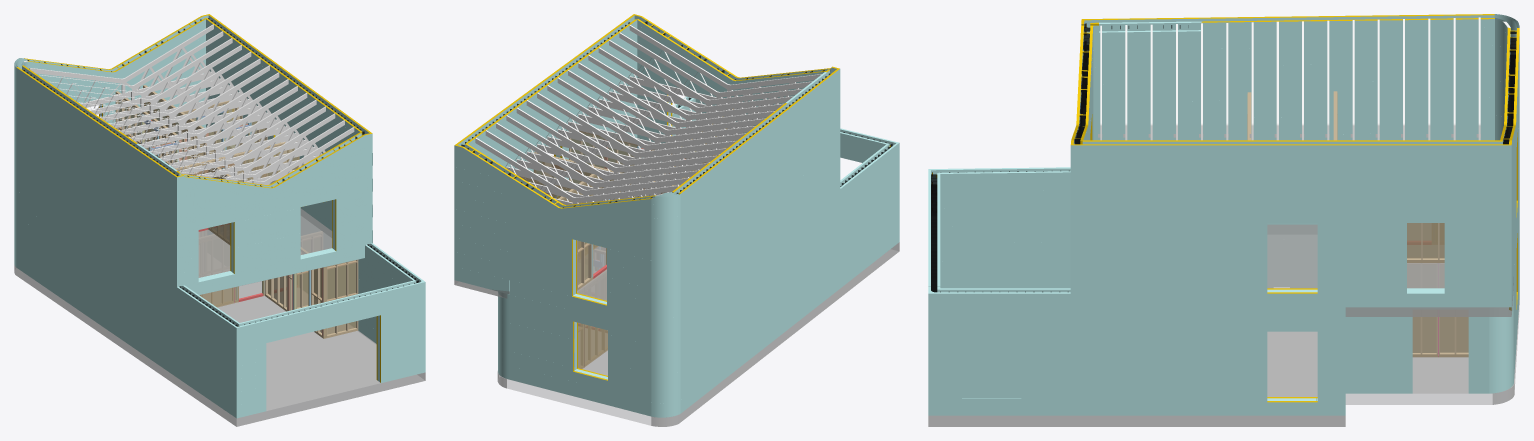
The model's file is Fell_Partnership_-_Somerset_Terrace_new.glb.
3 views of the same model, side by side, from view 1: azimuth 30°, elevation 25°; view 2: azimuth 150°, elevation 25°; view 3: azimuth 270°, elevation 25° (orthographic). The views are drawn at different scales.
Parts seen in each view (by area): view 1: Geom3D (×112), Geom3D_Group#_ts_271.325_-3.896_-87.609_-1.0_0.0_0.0__TLSID4, Geom3D_Group#_ts_271.325_-3.896_54.123_-1.0_0.0_0.0__TLSID44, Geom3D_Group#_ts_271.325_-3.896_-63.987_-1.0_0.0_0.0__TLSID4, Geom3D_Group#_ts_271.325_-3.896_-16.743_-1.0_0.0_0.0__TLSID4, Geom3D_Group#_ts_271.325_-3.896_-40.365_-1.0_0.0_0.0__TLSID4, Geom3D_Group#_ts_271.325_-3.896_30.501_-1.0_0.0_0.0__TLSID44, Geom3D_Group#_ts_271.325_-3.896_77.746_-1.0_0.0_0.0__TLSID44, Geom3D_Group#_ts_271.325_-3.896_124.99_-1.0_0.0_0.0__TLSID44, Geom3D_Group#_ts_271.325_-3.896_6.879_-1.0_0.0_0.0__TLSID447, Geom3D_Group#_ts_271.325_-3.896_101.368_-1.0_0.0_0.0__TLSID4, Geom3D_Group#_ts_271.325_-3.896_148.612_-1.0_0.0_0.0__TLSID4 (+5 smaller); view 2: Geom3D (×127), Geom3D_Group#_ts_271.325_-3.896_30.501_-1.0_0.0_0.0__TLSID44, Geom3D_Group#_ts_271.325_-3.896_54.123_-1.0_0.0_0.0__TLSID44, Geom3D_Group#_ts_271.325_-3.896_77.746_-1.0_0.0_0.0__TLSID44, Geom3D_Group#_ts_271.325_-3.896_6.879_-1.0_0.0_0.0__TLSID447, Geom3D_Group#_ts_271.325_-3.896_-16.743_-1.0_0.0_0.0__TLSID4, Geom3D_Group#_ts_271.325_-3.896_101.368_-1.0_0.0_0.0__TLSID4, Geom3D_Group#_ts_271.325_-3.896_148.612_-1.0_0.0_0.0__TLSID4, Geom3D_Group#_ts_271.325_-3.896_124.99_-1.0_0.0_0.0__TLSID44, Geom3D_Group#_ts_271.325_-3.896_172.234_-1.0_0.0_0.0__TLSID4, Geom3D_Group#_ts_271.325_-3.896_219.478_-1.0_0.0_0.0__TLSID4, Geom3D_Group#_ts_271.325_-3.896_195.856_-1.0_0.0_0.0__TLSID4 (+6 smaller); view 3: Geom3D (×129), 3DGeom-7600, 3DGeom-7599.
Part boxes in pixels (x1,y1,x2,y2): Geom3D (×112): (14, 25, 425, 426); Geom3D_Group#_ts_271.325_-3.896_-87.609_-1.0_0.0_0.0__TLSID4: (29, 24, 213, 107); Geom3D_Group#_ts_271.325_-3.896_54.123_-1.0_0.0_0.0__TLSID44: (89, 65, 269, 148); Geom3D_Group#_ts_271.325_-3.896_-63.987_-1.0_0.0_0.0__TLSID4: (39, 31, 223, 114); Geom3D_Group#_ts_271.325_-3.896_-16.743_-1.0_0.0_0.0__TLSID4: (59, 45, 241, 128); Geom3D_Group#_ts_271.325_-3.896_-40.365_-1.0_0.0_0.0__TLSID4: (49, 38, 232, 121); Geom3D_Group#_ts_271.325_-3.896_30.501_-1.0_0.0_0.0__TLSID44: (79, 58, 260, 141); Geom3D_Group#_ts_271.325_-3.896_77.746_-1.0_0.0_0.0__TLSID44: (98, 72, 279, 154); Geom3D_Group#_ts_271.325_-3.896_124.99_-1.0_0.0_0.0__TLSID44: (118, 86, 297, 168); Geom3D_Group#_ts_271.325_-3.896_6.879_-1.0_0.0_0.0__TLSID447: (69, 51, 251, 134); Geom3D_Group#_ts_271.325_-3.896_101.368_-1.0_0.0_0.0__TLSID4: (108, 79, 288, 161); Geom3D_Group#_ts_271.325_-3.896_148.612_-1.0_0.0_0.0__TLSID4: (129, 93, 307, 174); Geom3D (×127): (454, 27, 899, 426); Geom3D_Group#_ts_271.325_-3.896_30.501_-1.0_0.0_0.0__TLSID44: (526, 100, 726, 192); Geom3D_Group#_ts_271.325_-3.896_54.123_-1.0_0.0_0.0__TLSID44: (537, 92, 736, 185); Geom3D_Group#_ts_271.325_-3.896_77.746_-1.0_0.0_0.0__TLSID44: (547, 85, 745, 177); Geom3D_Group#_ts_271.325_-3.896_6.879_-1.0_0.0_0.0__TLSID447: (516, 107, 716, 195); Geom3D_Group#_ts_271.325_-3.896_-16.743_-1.0_0.0_0.0__TLSID4: (506, 115, 707, 199); Geom3D_Group#_ts_271.325_-3.896_101.368_-1.0_0.0_0.0__TLSID4: (557, 77, 755, 169); Geom3D_Group#_ts_271.325_-3.896_148.612_-1.0_0.0_0.0__TLSID4: (578, 62, 774, 149); Geom3D_Group#_ts_271.325_-3.896_124.99_-1.0_0.0_0.0__TLSID44: (568, 70, 765, 157); Geom3D_Group#_ts_271.325_-3.896_172.234_-1.0_0.0_0.0__TLSID4: (588, 55, 783, 142); Geom3D_Group#_ts_271.325_-3.896_219.478_-1.0_0.0_0.0__TLSID4: (609, 40, 802, 127); Geom3D_Group#_ts_271.325_-3.896_195.856_-1.0_0.0_0.0__TLSID4: (598, 47, 793, 134); Geom3D (×129): (928, 19, 1519, 426); 3DGeom-7600: (1074, 25, 1516, 144); 3DGeom-7599: (931, 170, 1069, 292).
Bounding box in the file's own units: 7.39 × 7.43 × 14.06.
